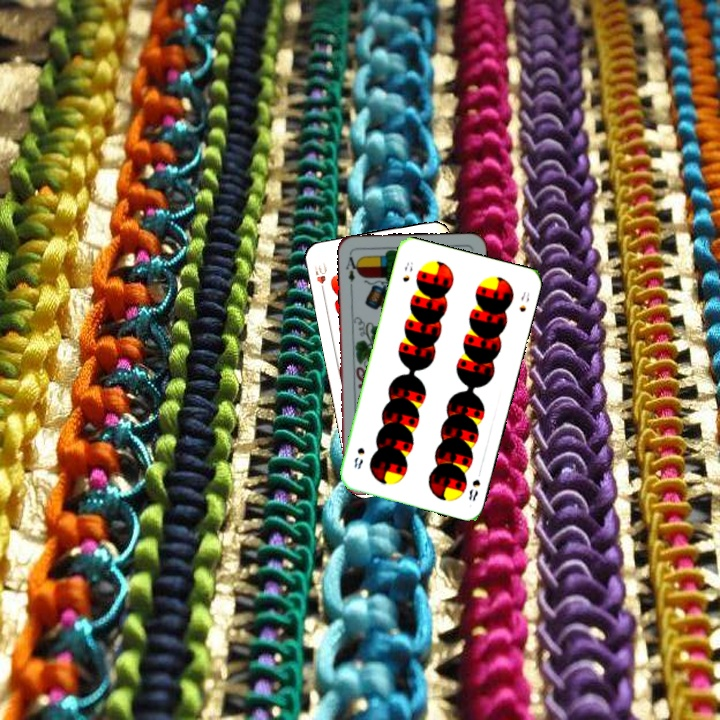EA: (342, 250, 361, 284)
H10: (310, 259, 330, 297)
S8: (464, 475, 483, 504), (399, 258, 415, 284)
